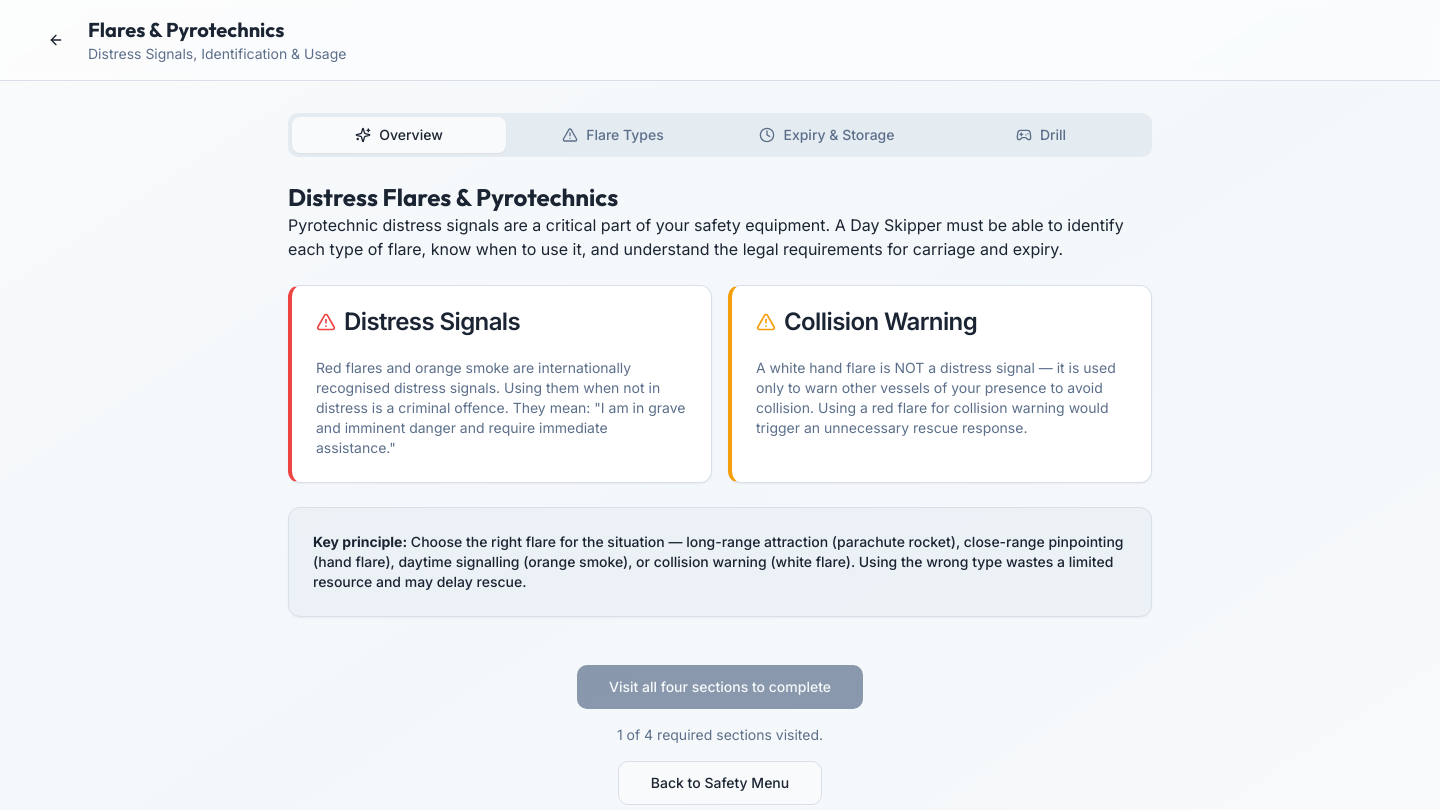
Test case: FlaresTheory practitioner-review waiver › mounts the sourced lesson without claiming practitioner approval
Click the tab "Expiry & Storage" at (827, 135), box 720,117 -> 934,153
(page scrolled)
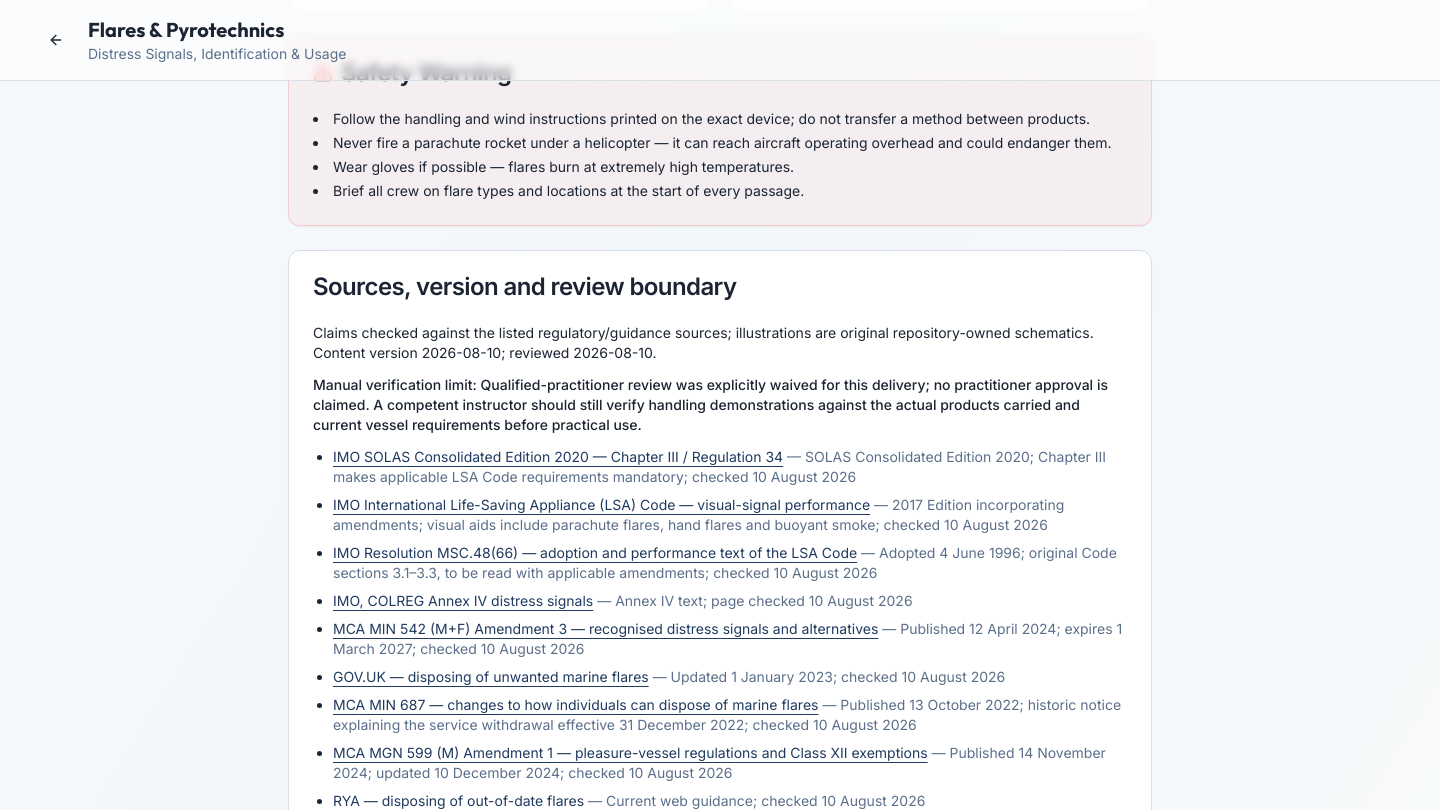
Expected: the text "no practitioner approval is claimed" is shown, 313,376 -> 1108,433
